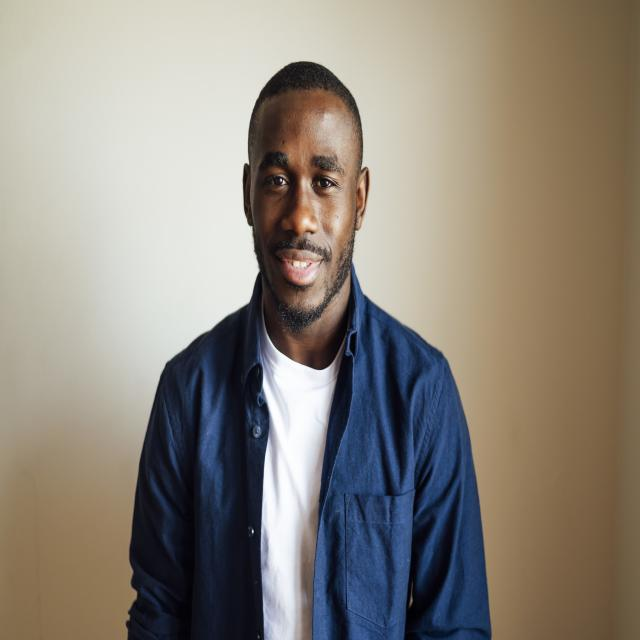sem_oculos: (243, 141, 365, 210)
